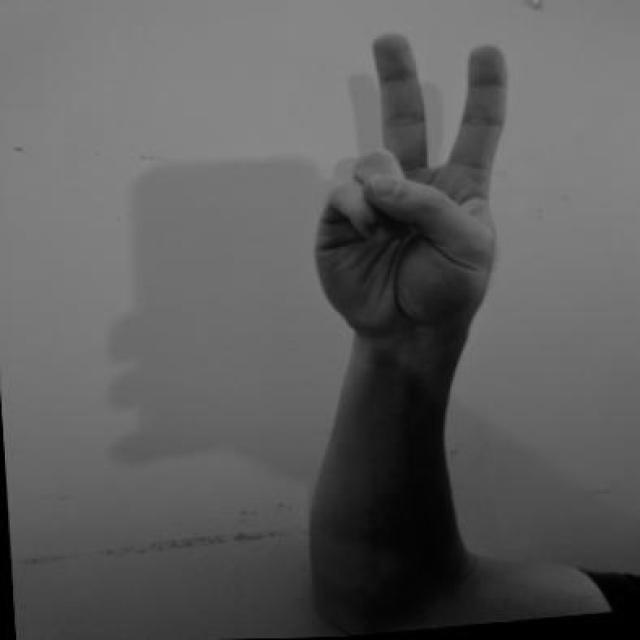V: (294, 20, 531, 344)
